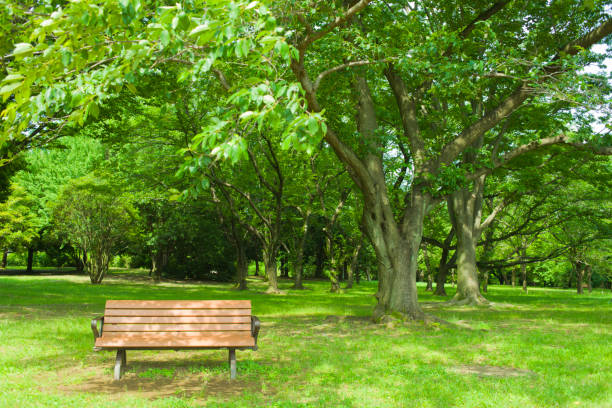bench: (88, 296, 266, 376)
